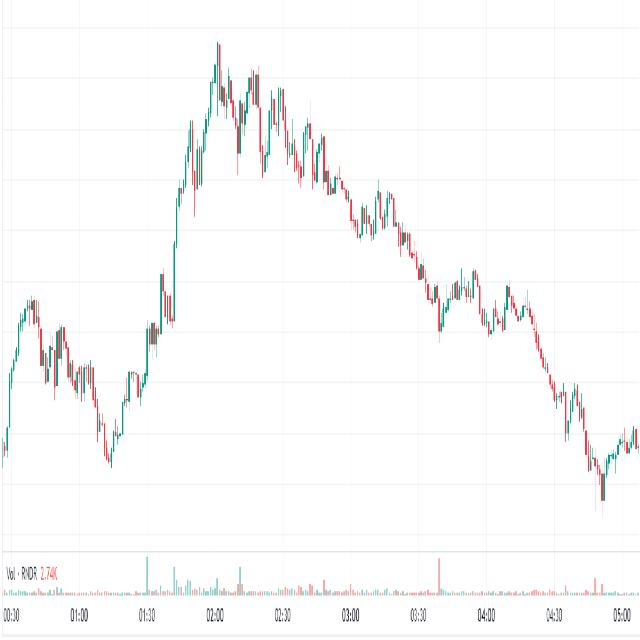Descending-Triangle: (192, 0, 361, 184), (7, 252, 115, 394)
Inverse-Head-Shoulders: (60, 312, 154, 476)
